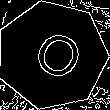O_SW: (21, 23, 84, 88)
